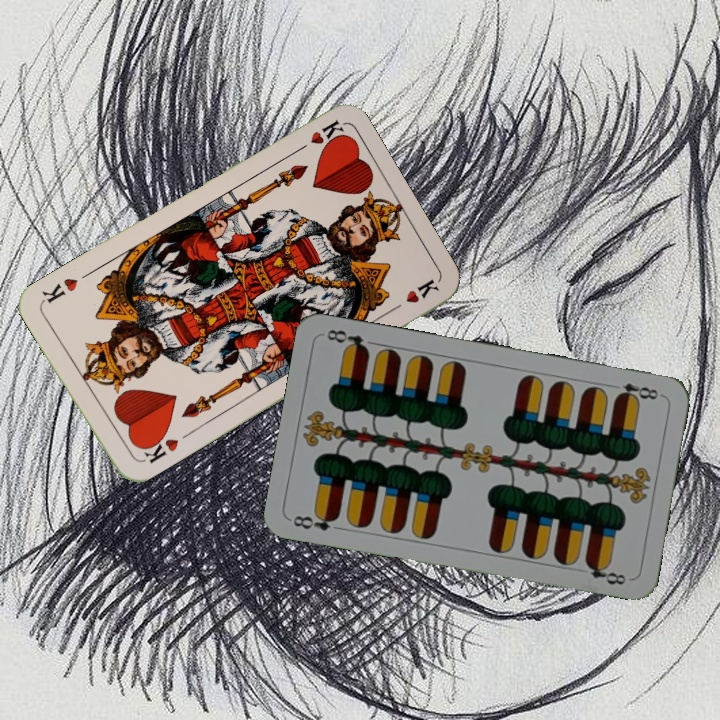E8: (288, 508, 342, 534), (612, 378, 664, 404)
HK: (289, 115, 346, 157), (135, 428, 181, 466)
